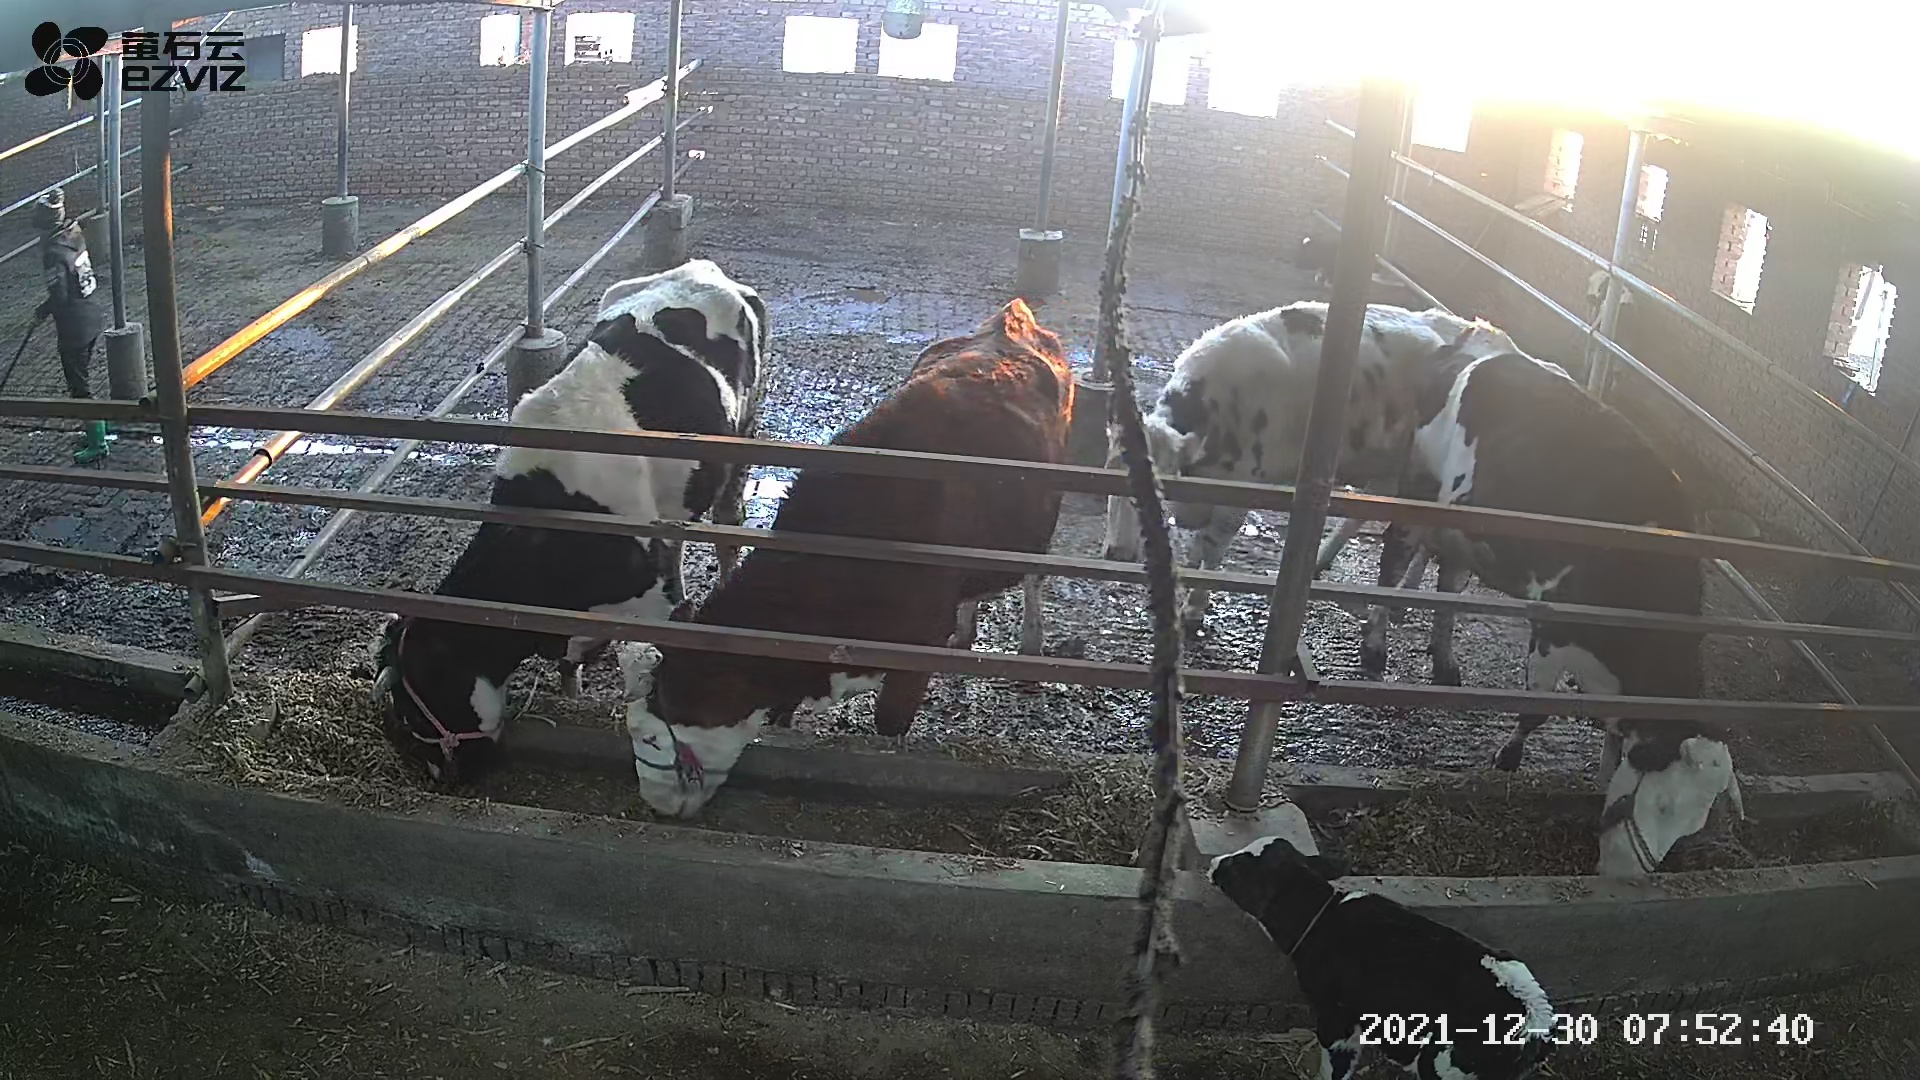cow: (624, 295, 1076, 825), (1360, 313, 1747, 878), (367, 256, 766, 795), (1098, 297, 1476, 640)
